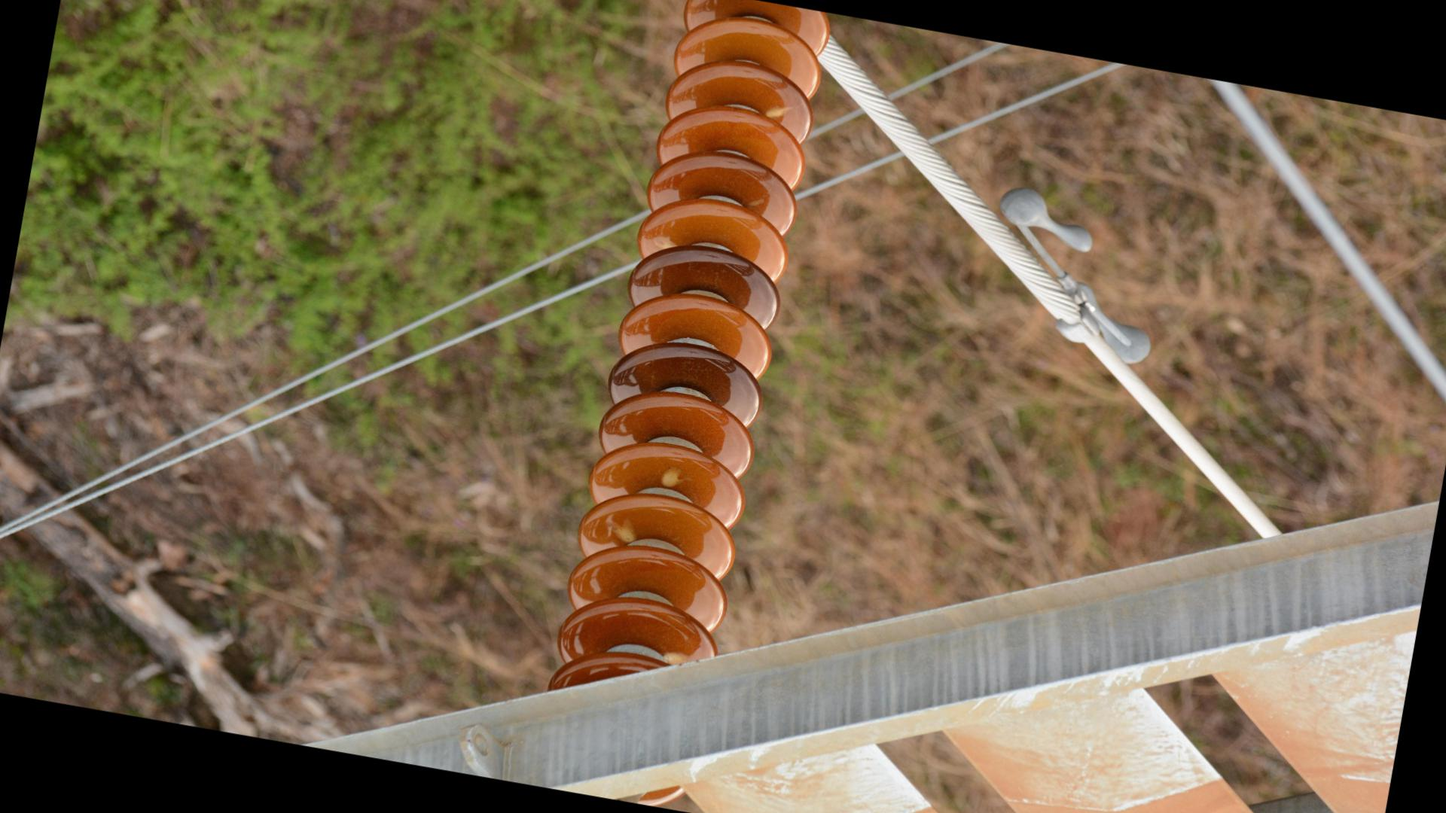damper: (969, 175, 1182, 378)
